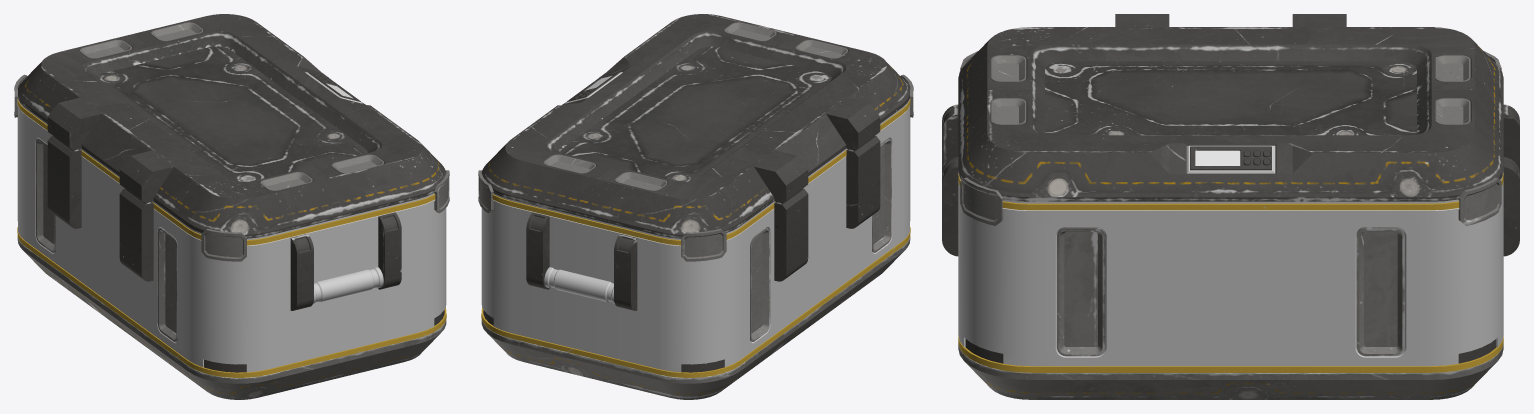
Rendered from KB3D_MTM_PropCrate_A.fbx.
3 views of the same model, side by side, from view 1: azimuth 30°, elevation 25°; view 2: azimuth 150°, elevation 25°; view 3: azimuth 270°, elevation 25° (orthographic). The views are drawn at different scales.
Parts seen in each view (by area): view 1: KB3D_MTM_PropCrate_A_Main; view 2: KB3D_MTM_PropCrate_A_Main; view 3: KB3D_MTM_PropCrate_A_Main.
Boxes of the visible parts, box(x1,y1,x2,y2) form: KB3D_MTM_PropCrate_A_Main: box(14, 14, 449, 399); KB3D_MTM_PropCrate_A_Main: box(478, 14, 913, 399); KB3D_MTM_PropCrate_A_Main: box(942, 14, 1519, 399).
Size of the model in its own units: 106 by 78.88 by 164.
